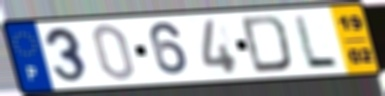0: (89, 22, 137, 83)
3: (43, 25, 93, 86)
4: (199, 17, 240, 77)
6: (147, 20, 191, 79)
D: (239, 13, 295, 75)
L: (291, 13, 342, 69)
